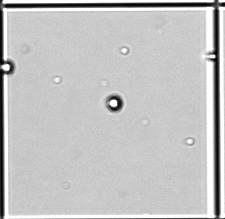Living Cell: (105, 94, 123, 113), (1, 60, 13, 75)
